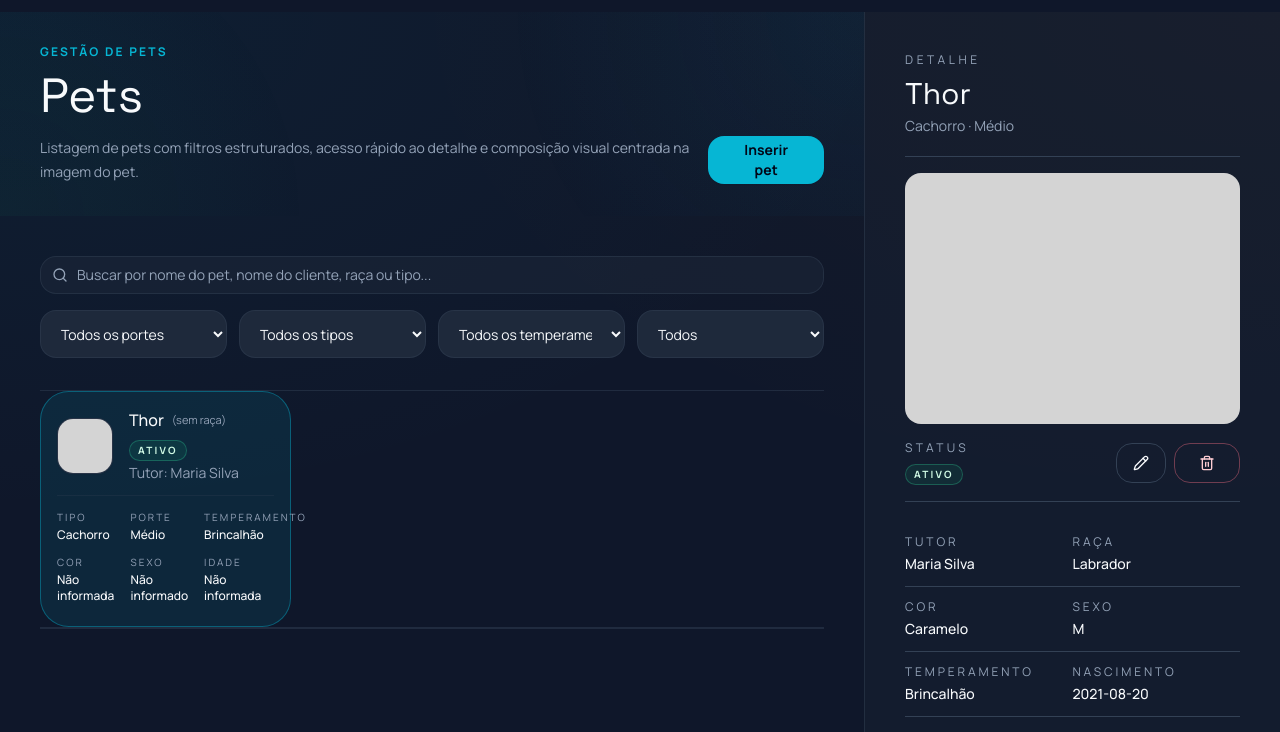
Scenario: operational domain pages › renderiza a tela operacional de pets com tutor selecionável
Check: the heading "Pets" is shown, box [40,65,143,126]
Check: the text "Thor" is shown, box [129,408,164,432]
Click the button "Inserir pet" at (766, 160), box [708,136,824,184]
(page scrolled)
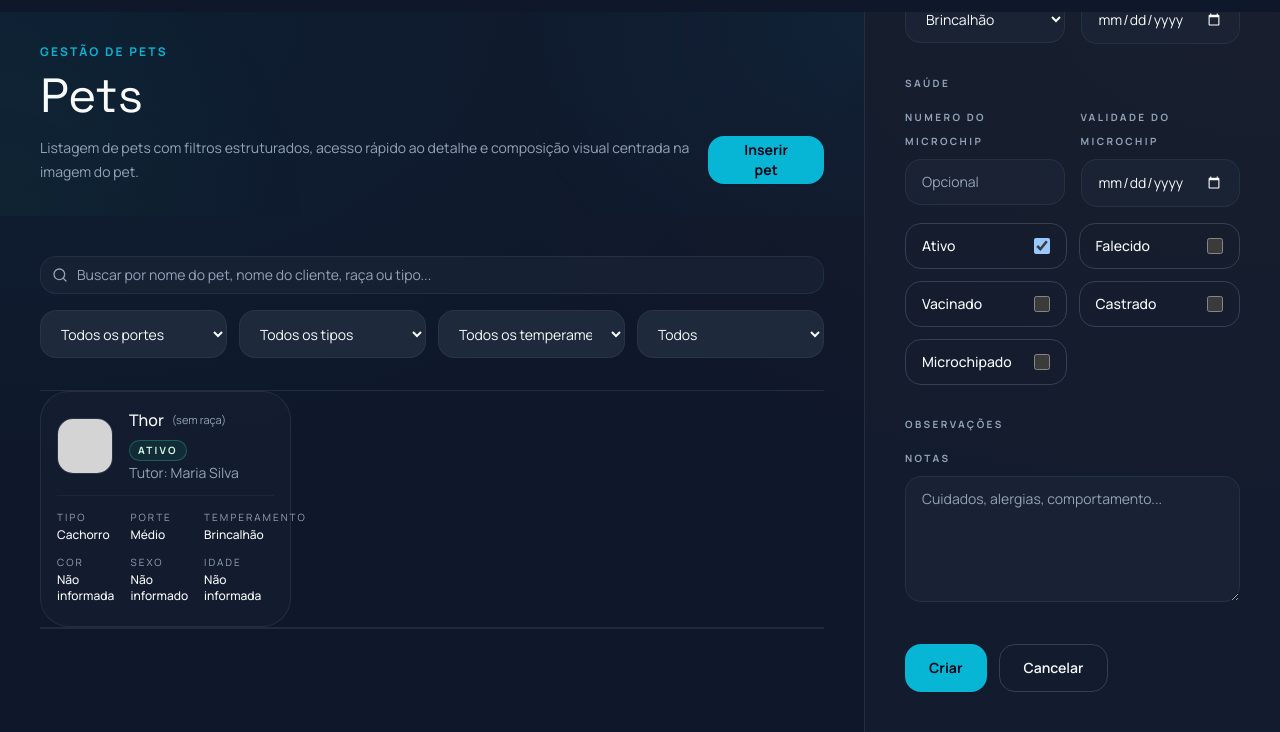
Check: the button "Criar" is shown, box [905,644,986,692]
